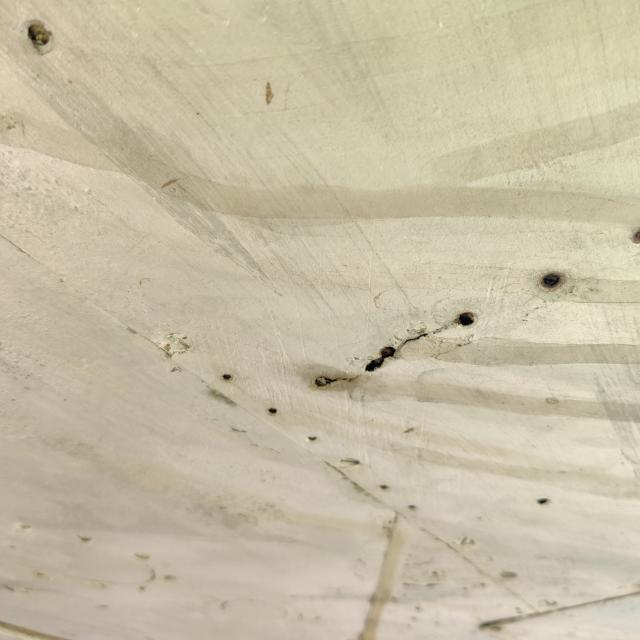crack: (299, 292, 495, 412)
